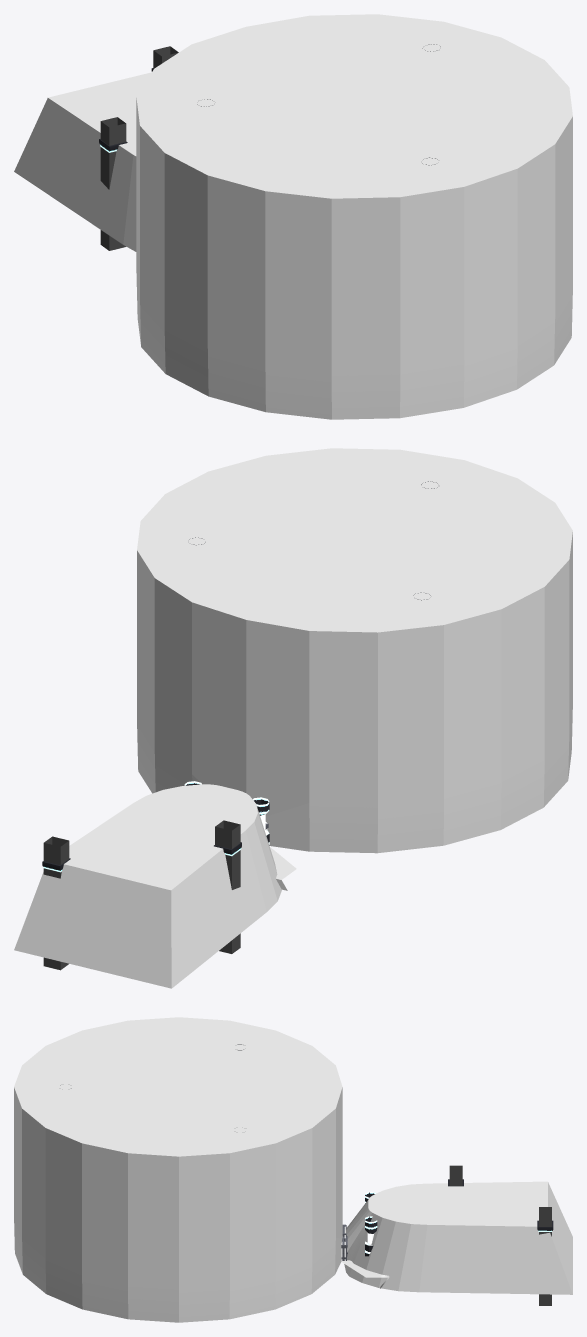
Rendered from LevelBoss 1.fbx.
3 views of the same model, one above another, from view 1: azimuth 30°, elevation 25°; view 2: azimuth 150°, elevation 25°; view 3: azimuth 270°, elevation 25° (orthographic). The views are drawn at different scales.
Visible parts, largest first — view 1: PisoSupay, PisoDescanso, C_Columna_2h__1__1; view 2: PisoSupay, PisoDescanso, C_Columna_2h__1__1, C_Columna_2h__1_; view 3: PisoSupay, PisoDescanso.
Part boxes in pixels (bbox=[...]): PisoSupay: bbox=[136, 14, 572, 419]; PisoDescanso: bbox=[14, 72, 151, 251]; C_Columna_2h__1__1: bbox=[100, 117, 126, 188]; PisoSupay: bbox=[137, 448, 572, 853]; PisoDescanso: bbox=[14, 784, 281, 988]; C_Columna_2h__1__1: bbox=[215, 820, 240, 889]; C_Columna_2h__1_: bbox=[43, 836, 69, 878]; PisoSupay: bbox=[14, 1017, 342, 1322]; PisoDescanso: bbox=[344, 1181, 572, 1294].
Size of the model in its own units: 4851 by 3176 by 8218.
Materials: 9 (4 with a texture image).
